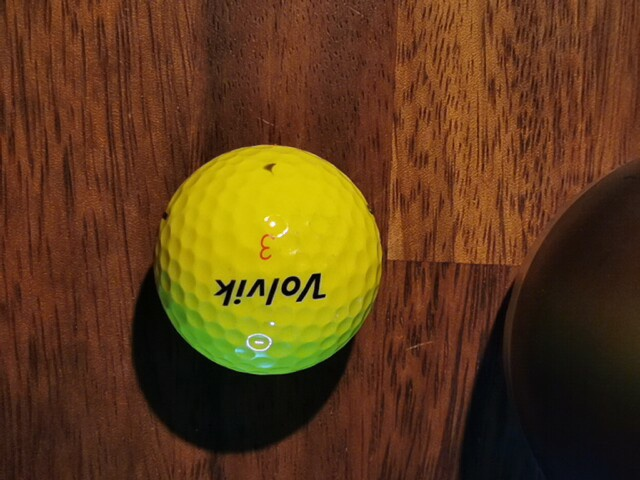Ball: (153, 144, 383, 376)
Volvik: (214, 273, 326, 306)
